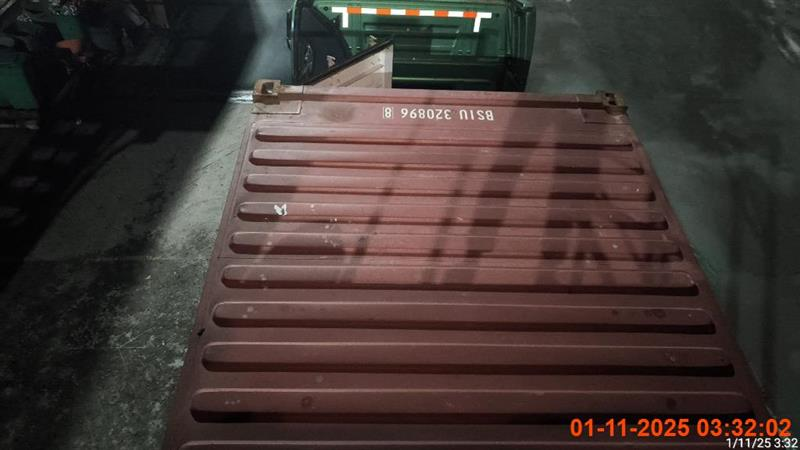broken: (161, 78, 778, 441)
